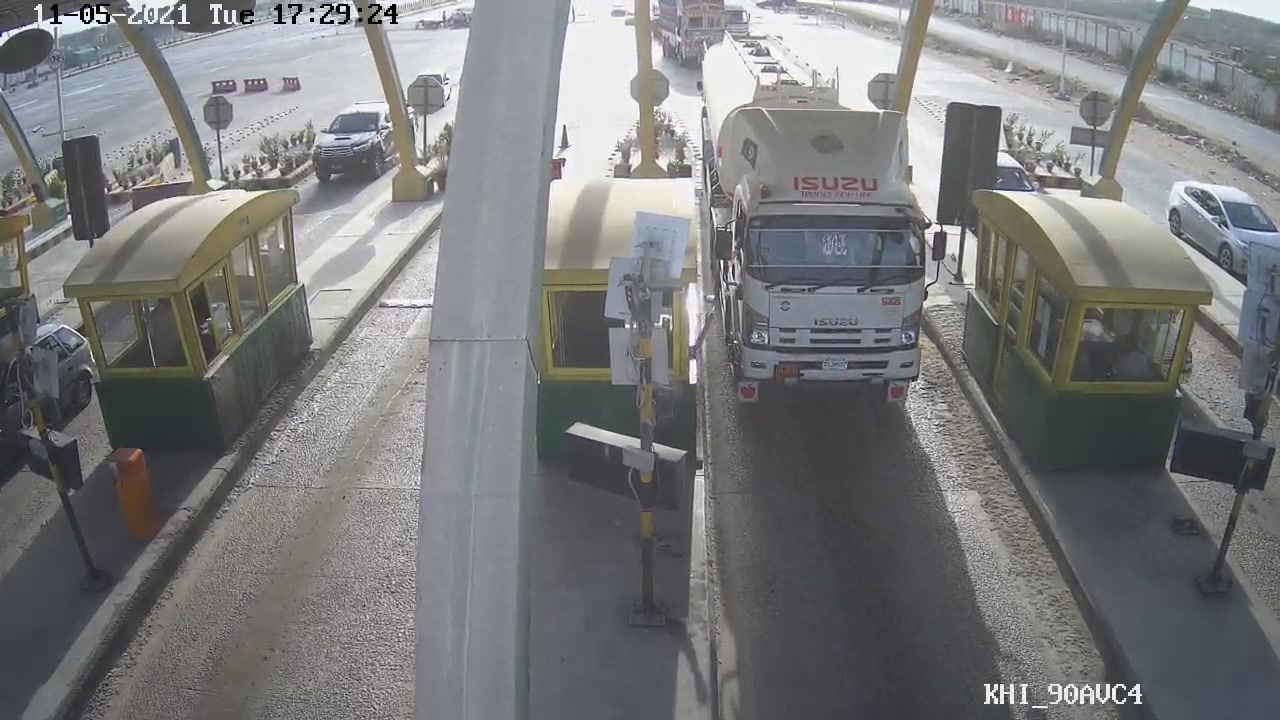F6: (697, 29, 927, 419)
